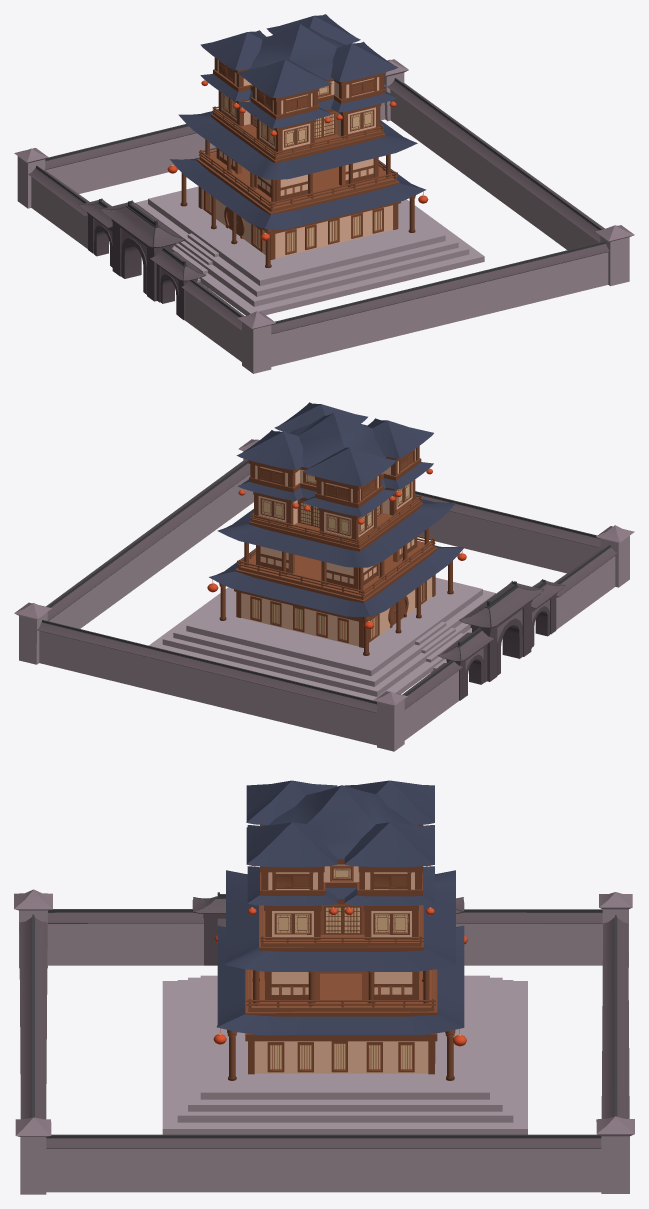
The model's file is castle021_1.fbx.
3 renders of one model, top to bottom at view 1: azimuth 30°, elevation 25°; view 2: azimuth 150°, elevation 25°; view 3: azimuth 270°, elevation 25°, orthographic. The views are drawn at different scales.
Parts seen in each view (by area): view 1: castle_fence_1_1, castle21_1, foundation_castle_1_1; view 2: castle_fence_1_1, castle21_1, foundation_castle_1_1; view 3: castle_fence_1_1, castle21_1, foundation_castle_1_1.
Part boxes in pixels (x1,y1,x2,y2): castle_fence_1_1: [14, 59, 634, 373]; castle21_1: [167, 14, 428, 267]; foundation_castle_1_1: [135, 186, 484, 315]; castle_fence_1_1: [14, 439, 634, 751]; castle21_1: [207, 402, 466, 655]; foundation_castle_1_1: [149, 577, 495, 700]; castle_fence_1_1: [14, 889, 634, 1194]; castle21_1: [213, 780, 467, 1080]; foundation_castle_1_1: [162, 975, 527, 1134].
Size of the model in its own units: 8426 by 4518 by 9031.
